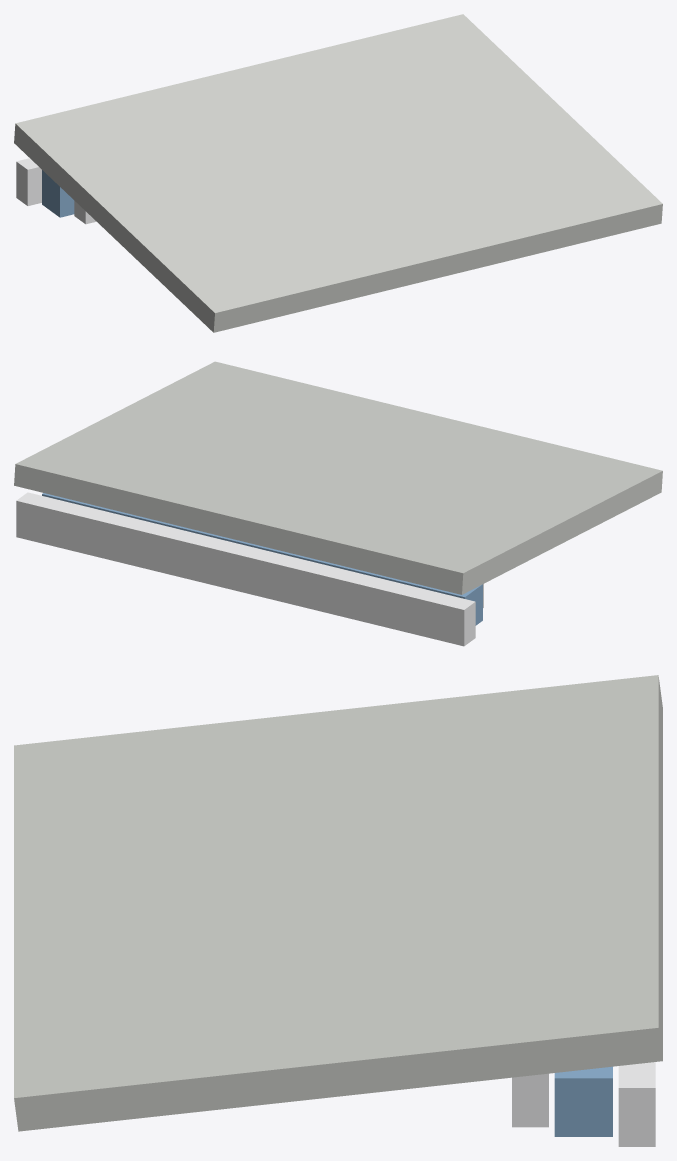
File: MOD_AWNING_COASTAL_CAFE_001_LOD_CLOSE.glb
3 renders of one model, top to bottom at view 1: azimuth 30°, elevation 25°; view 2: azimuth 150°, elevation 25°; view 3: azimuth 270°, elevation 25°, orthographic. The views are drawn at different scales.
Visible parts, largest first — view 1: MOD_AWNING_COASTAL_CAFE_001_CORNER_RETURN_AWNING_CLOSE_CANOP, MOD_AWNING_COASTAL_CAFE_001_SHALLOW_CAFE_AWNING_CLOSE_CANOPY, MOD_AWNING_COASTAL_CAFE_001_DEEP_SEATING_AWNING_CLOSE_CANOPY, MOD_AWNING_COASTAL_CAFE_001_STRIPED_COASTAL_AWNING_CLOSE_CAN, MOD_AWNING_COASTAL_CAFE_001_DEEP_SEATING_AWNING_CLOSE_FASCIA, MOD_AWNING_COASTAL_CAFE_001_STRIPED_COASTAL_AWNING_CLOSE_FAS; view 2: MOD_AWNING_COASTAL_CAFE_001_DEEP_SEATING_AWNING_CLOSE_CANOPY, MOD_AWNING_COASTAL_CAFE_001_CORNER_RETURN_AWNING_CLOSE_CANOP, MOD_AWNING_COASTAL_CAFE_001_STRIPED_COASTAL_AWNING_CLOSE_CAN, MOD_AWNING_COASTAL_CAFE_001_DEEP_SEATING_AWNING_CLOSE_FASCIA, MOD_AWNING_COASTAL_CAFE_001_SHALLOW_CAFE_AWNING_CLOSE_CANOPY, MOD_AWNING_COASTAL_CAFE_001_CORNER_RETURN_AWNING_CLOSE_FASCI; view 3: MOD_AWNING_COASTAL_CAFE_001_CORNER_RETURN_AWNING_CLOSE_CANOP, MOD_AWNING_COASTAL_CAFE_001_DEEP_SEATING_AWNING_CLOSE_CANOPY, MOD_AWNING_COASTAL_CAFE_001_SHALLOW_CAFE_AWNING_CLOSE_CANOPY, MOD_AWNING_COASTAL_CAFE_001_STRIPED_COASTAL_AWNING_CLOSE_CAN, MOD_AWNING_COASTAL_CAFE_001_DEEP_SEATING_AWNING_CLOSE_FASCIA, MOD_AWNING_COASTAL_CAFE_001_CORNER_RETURN_AWNING_CLOSE_FASCI, MOD_AWNING_COASTAL_CAFE_001_STRIPED_COASTAL_AWNING_CLOSE_FAS, MOD_AWNING_COASTAL_CAFE_001_SHALLOW_CAFE_AWNING_CLOSE_FASCIA.
Boxes of the visible parts, box(x1,y1,x2,y2) form: MOD_AWNING_COASTAL_CAFE_001_CORNER_RETURN_AWNING_CLOSE_CANOP: box(44, 31, 635, 296); MOD_AWNING_COASTAL_CAFE_001_SHALLOW_CAFE_AWNING_CLOSE_CANOPY: box(110, 54, 601, 271); MOD_AWNING_COASTAL_CAFE_001_DEEP_SEATING_AWNING_CLOSE_CANOPY: box(14, 14, 662, 332); MOD_AWNING_COASTAL_CAFE_001_STRIPED_COASTAL_AWNING_CLOSE_CAN: box(49, 38, 583, 289); MOD_AWNING_COASTAL_CAFE_001_DEEP_SEATING_AWNING_CLOSE_FASCIA: box(16, 158, 41, 205); MOD_AWNING_COASTAL_CAFE_001_STRIPED_COASTAL_AWNING_CLOSE_FAS: box(48, 177, 74, 217); MOD_AWNING_COASTAL_CAFE_001_DEEP_SEATING_AWNING_CLOSE_CANOPY: box(14, 361, 662, 594); MOD_AWNING_COASTAL_CAFE_001_CORNER_RETURN_AWNING_CLOSE_CANOP: box(85, 372, 588, 562); MOD_AWNING_COASTAL_CAFE_001_STRIPED_COASTAL_AWNING_CLOSE_CAN: box(98, 376, 628, 554); MOD_AWNING_COASTAL_CAFE_001_DEEP_SEATING_AWNING_CLOSE_FASCIA: box(16, 492, 475, 646); MOD_AWNING_COASTAL_CAFE_001_SHALLOW_CAFE_AWNING_CLOSE_CANOPY: box(120, 386, 539, 548); MOD_AWNING_COASTAL_CAFE_001_CORNER_RETURN_AWNING_CLOSE_FASCI: box(42, 493, 476, 625); MOD_AWNING_COASTAL_CAFE_001_CORNER_RETURN_AWNING_CLOSE_CANOP: box(60, 690, 612, 1083); MOD_AWNING_COASTAL_CAFE_001_DEEP_SEATING_AWNING_CLOSE_CANOPY: box(14, 675, 662, 1131); MOD_AWNING_COASTAL_CAFE_001_SHALLOW_CAFE_AWNING_CLOSE_CANOPY: box(129, 708, 543, 1065); MOD_AWNING_COASTAL_CAFE_001_STRIPED_COASTAL_AWNING_CLOSE_CAN: box(83, 692, 589, 1039); MOD_AWNING_COASTAL_CAFE_001_DEEP_SEATING_AWNING_CLOSE_FASCIA: box(618, 1062, 655, 1146); MOD_AWNING_COASTAL_CAFE_001_CORNER_RETURN_AWNING_CLOSE_FASCI: box(576, 1066, 612, 1136); MOD_AWNING_COASTAL_CAFE_001_STRIPED_COASTAL_AWNING_CLOSE_FAS: box(554, 1069, 591, 1136); MOD_AWNING_COASTAL_CAFE_001_SHALLOW_CAFE_AWNING_CLOSE_FASCIA: box(512, 1073, 548, 1127).
Size of the model in its own units: 3.6 by 0.567 by 2.8.
